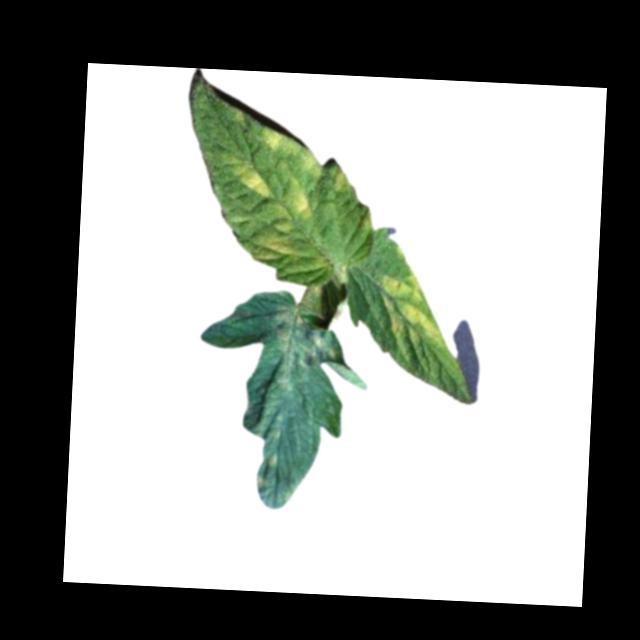Leaf_Mold: (263, 302, 336, 391), (372, 271, 446, 347), (250, 220, 294, 265), (223, 159, 271, 198), (287, 182, 314, 218), (325, 167, 354, 196), (256, 125, 283, 155)
